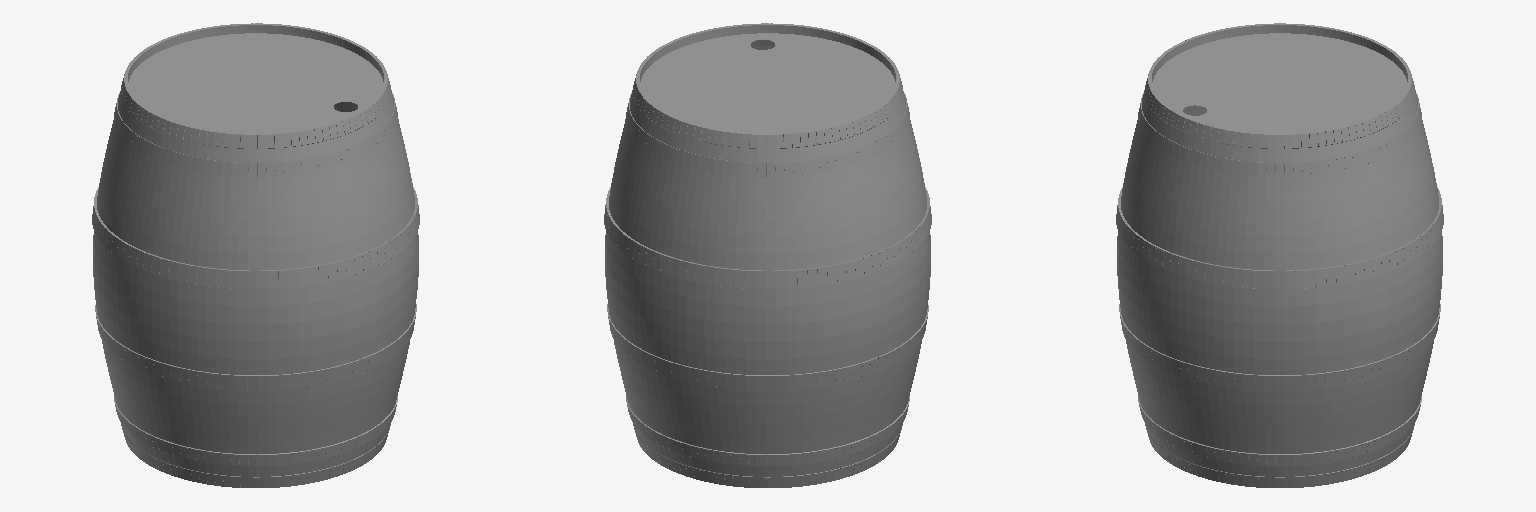
Rendered from barril.obj.
3 views of the same model, side by side, from view 1: azimuth 30°, elevation 25°; view 2: azimuth 150°, elevation 25°; view 3: azimuth 270°, elevation 25° (orthographic).
Visible parts, largest first — view 1: Barril_Cylinder_Cylinder.002; view 2: Barril_Cylinder_Cylinder.002; view 3: Barril_Cylinder_Cylinder.002.
Part boxes in pixels (x1,y1,x2,y2): Barril_Cylinder_Cylinder.002: (92,23,419,487); Barril_Cylinder_Cylinder.002: (604,23,931,487); Barril_Cylinder_Cylinder.002: (1116,23,1443,487).
Bounding box in the file's own units: 1.53 × 1.82 × 1.53.